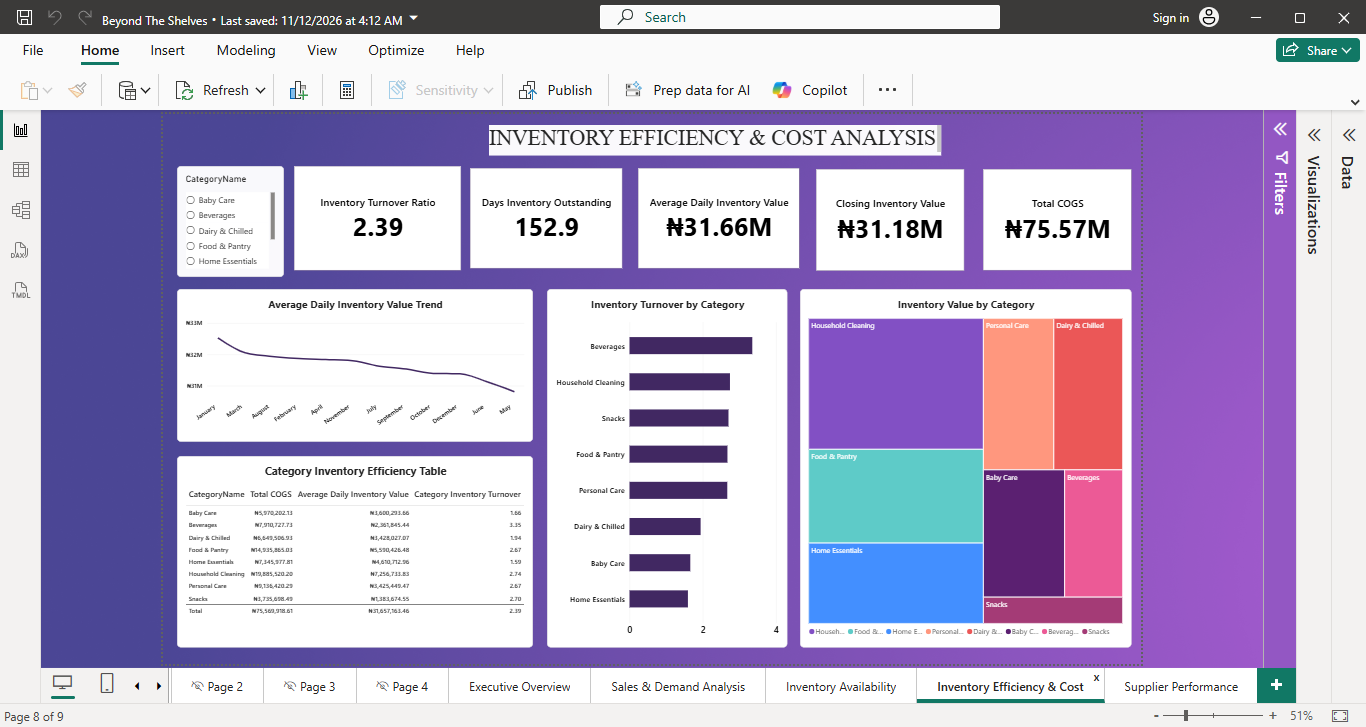

This screenshot's page, from the dashboard's own definition file:
{"tool":"powerbi","page":{"name":"Inventory Efficiency & Cost","canvas":[1920,1080],"ordinal":7},"visuals":[{"type":"cardVisual","fields":{"Data":["DimCategory.Inventory Turnover Ratio"]},"box":[257,101.5,328.3,205.2],"z":0},{"type":"textbox","box":[639.4,21.6,887.8,60.5],"z":1000},{"type":"cardVisual","fields":{"Data":["DimCategory.Days Inventory Outstanding"]},"box":[602.6,105.8,299.9,197.4],"z":2000},{"type":"cardVisual","fields":{"Data":["FactInventorySnapshot.Average Daily Inventory Value"]},"box":[933.1,105.8,317.9,197.4],"z":3000},{"type":"cardVisual","fields":{"Data":["FactInventorySnapshot.Closing Inventory Value"]},"box":[1283,108,291.6,200.9],"z":4000},{"type":"cardVisual","fields":{"Data":["FactSales.Total COGS"]},"box":[1609.2,108,292.2,199.9],"z":5000},{"type":"lineChart","title":"Average Daily Inventory Value Trend","fields":{"Category":["DimDate.MonthName"],"Y":["FactInventorySnapshot.Average Daily Inventory Value"]},"box":[27.6,344.4,699.4,299.8],"z":6000},{"type":"clusteredBarChart","title":"Inventory Turnover by Category","fields":{"Category":["DimCategory.CategoryName"],"Y":["DimCategory.Category Inventory Turnover"]},"box":[754.7,344.4,472,703.7],"z":7000},{"type":"treemap","title":" Inventory Value by Category","fields":{"Group":["DimCategory.CategoryName"],"Values":["FactInventorySnapshot.Closing Inventory Value"]},"box":[1250.1,344.4,650.6,703.7],"z":7001},{"type":"tableEx","title":"Category Inventory Efficiency Table","fields":{"Values":["DimCategory.CategoryName","FactSales.Total COGS","FactInventorySnapshot.Average Daily Inventory Value","DimCategory.Category Inventory Turnover"]},"box":[27.6,671.8,699.4,376.3],"z":7002},{"type":"listSlicer","fields":{"Values":["DimCategory.CategoryName"]},"box":[28.1,101.5,209.5,218.2],"z":7005}]}

Visuals, with their boxes on the page's 1920x1080 design canvas (x1, y1, x2, y2). These are canvas units, not pixel positions in the 1366x727 screenshot, which may show the page scaled, cropped or inside an application window:
cardVisual - DimCategory.Inventory Turnover Ratio: [257, 102, 585, 307]
textbox: [639, 22, 1527, 82]
cardVisual - DimCategory.Days Inventory Outstanding: [603, 106, 902, 303]
cardVisual - FactInventorySnapshot.Average Daily Inventory Value: [933, 106, 1251, 303]
cardVisual - FactInventorySnapshot.Closing Inventory Value: [1283, 108, 1575, 309]
cardVisual - FactSales.Total COGS: [1609, 108, 1901, 308]
"Average Daily Inventory Value Trend" lineChart: [28, 344, 727, 644]
"Inventory Turnover by Category" clusteredBarChart: [755, 344, 1227, 1048]
" Inventory Value by Category" treemap: [1250, 344, 1901, 1048]
"Category Inventory Efficiency Table" tableEx: [28, 672, 727, 1048]
listSlicer - DimCategory.CategoryName: [28, 102, 238, 320]
